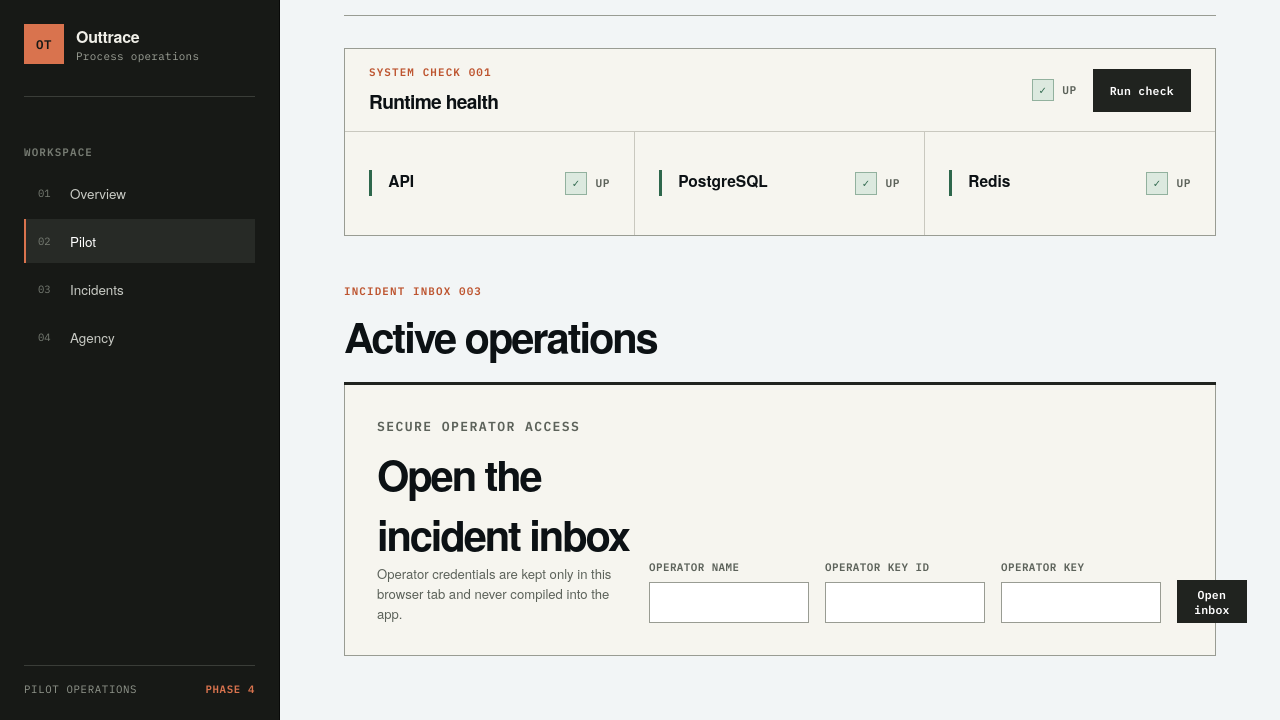
Test case: Phase 4 pilot operations › keeps pilot metrics and incident classification read-only for viewers
(page scrolled)
Type "Client viewer" into the field labelled "Operator name". click: (729,602)
box: x1=649 y1=582 x2=809 y2=623
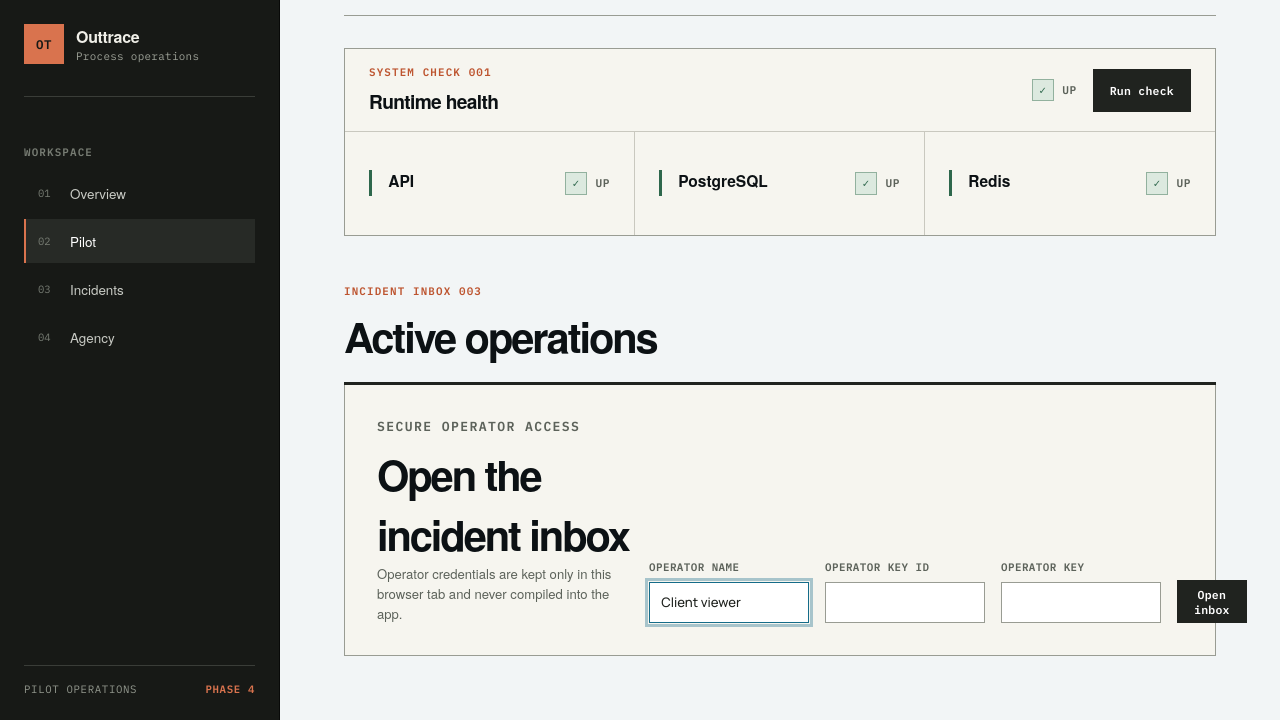
Type "viewer_1" into the field labelled "Operator key ID". click: (905,602)
box: x1=825 y1=582 x2=985 y2=623
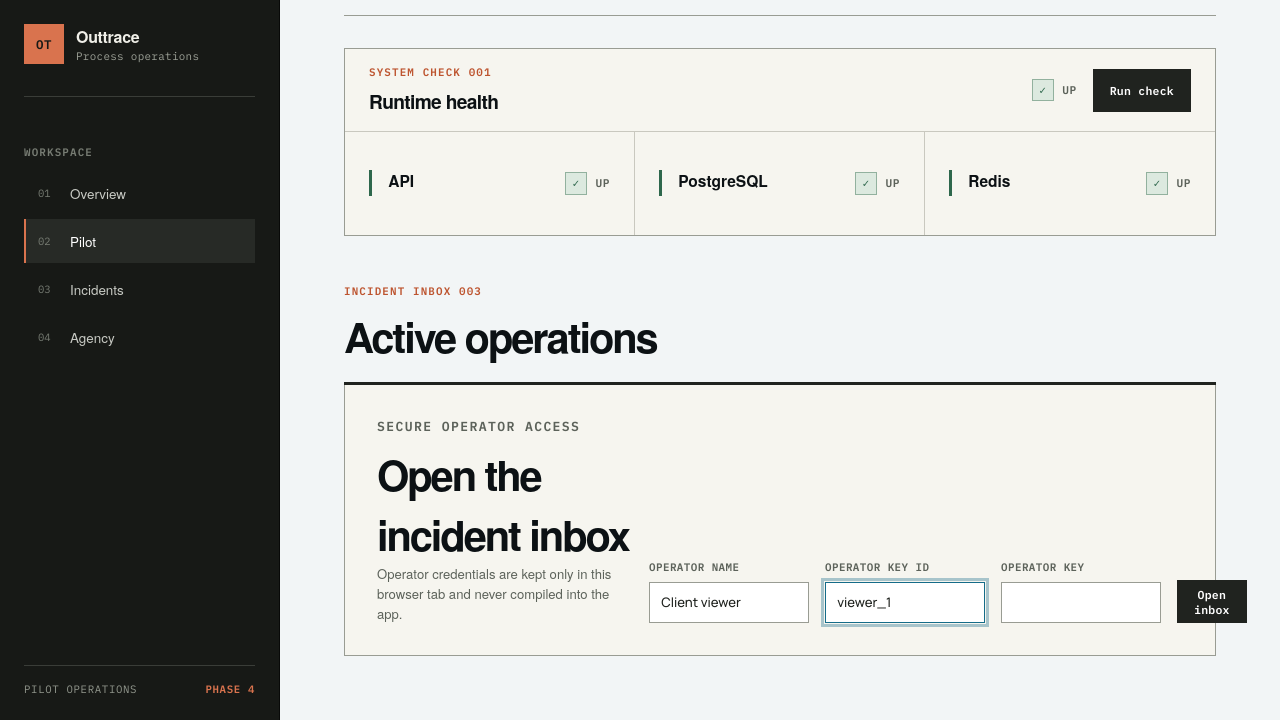
Type "secret" into the password field labelled "Operator key". click: (1081,602)
box: x1=1001 y1=582 x2=1161 y2=623
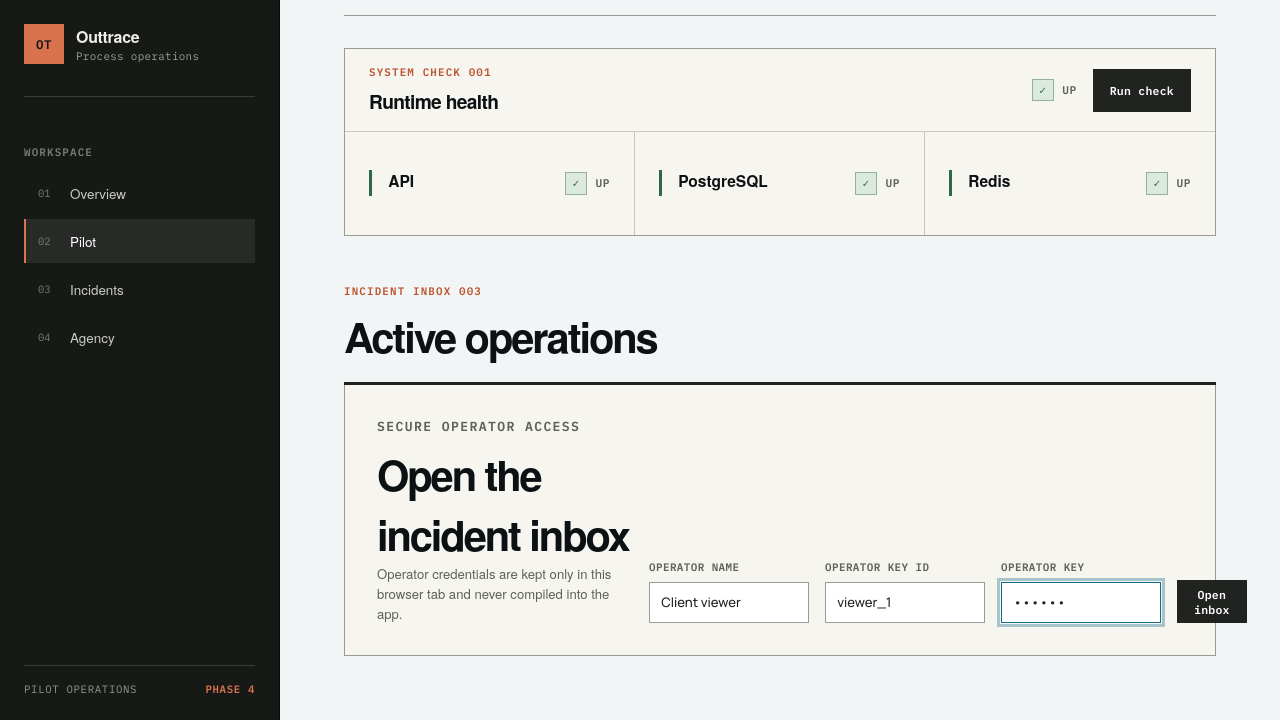
Click the button "Open inbox". click: (1212,602)
box: x1=1177 y1=580 x2=1247 y2=623
(page scrolled)
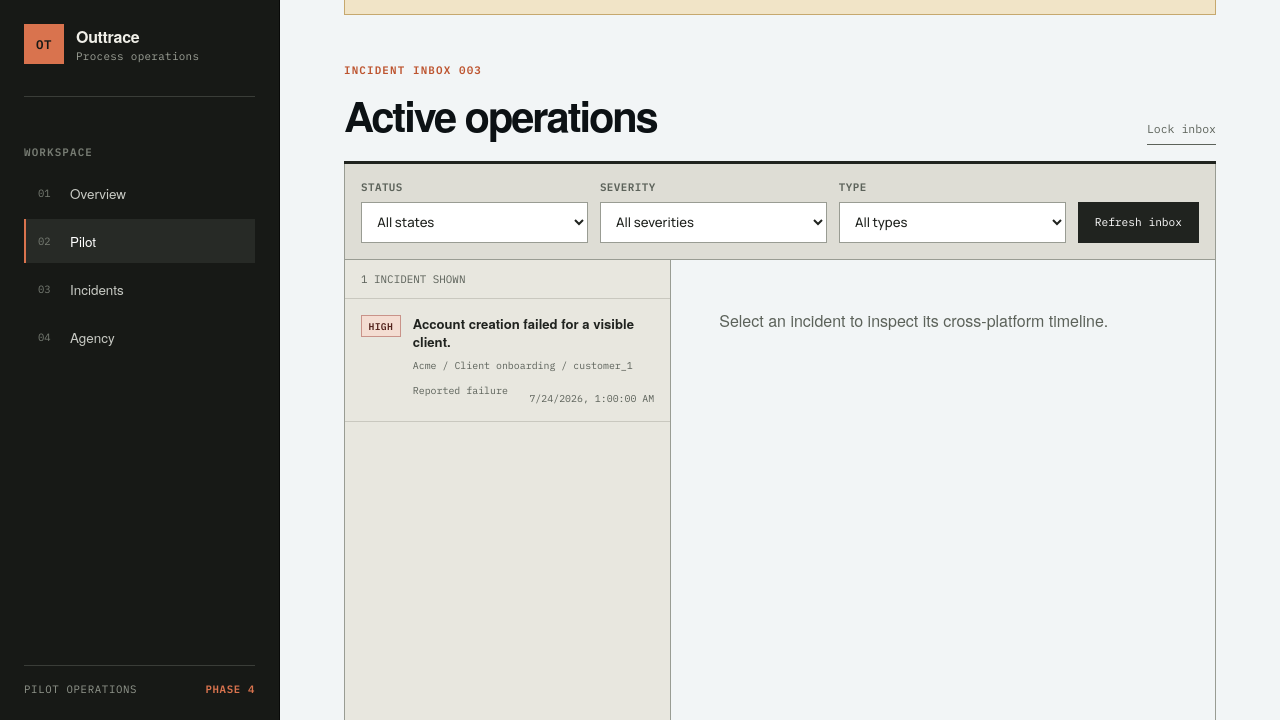
Click the button "Account creation failed for a visible client". click: (508,360)
box: x1=345 y1=299 x2=670 y2=422
(page scrolled)
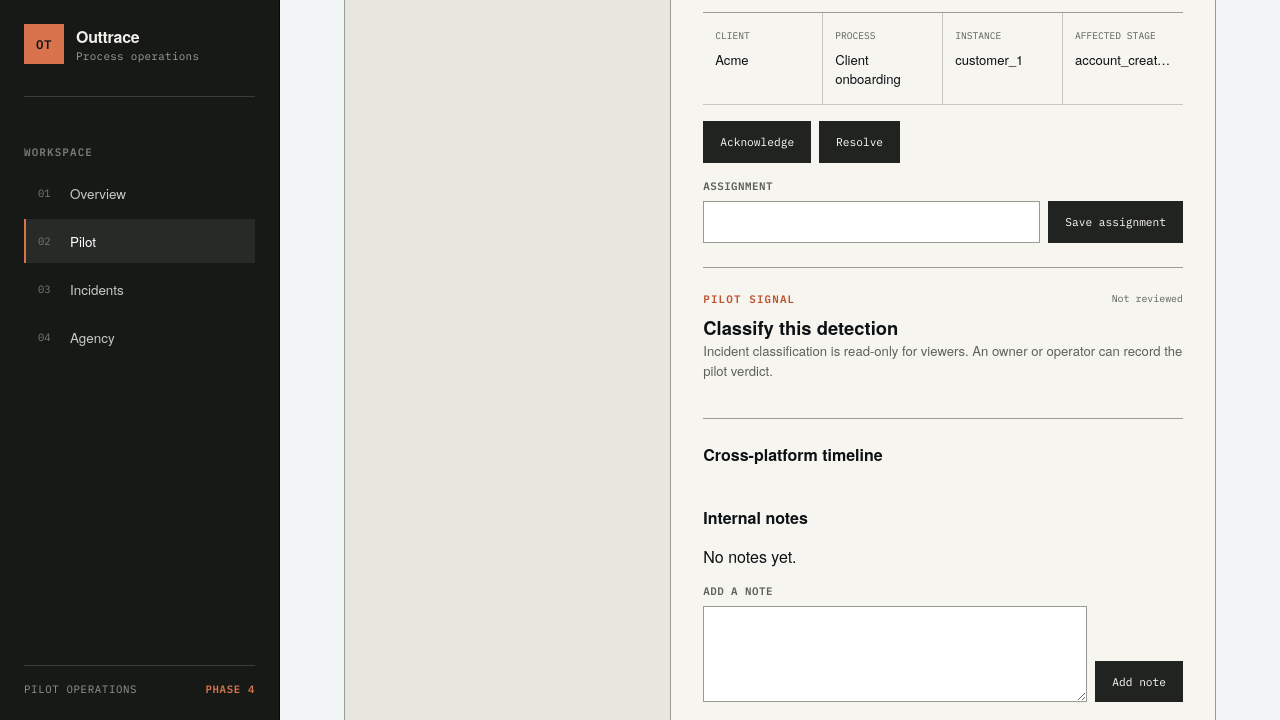
Now the text "Incident classification is read-only for viewers" is shown, box x1=703 y1=341 x2=1182 y2=380
